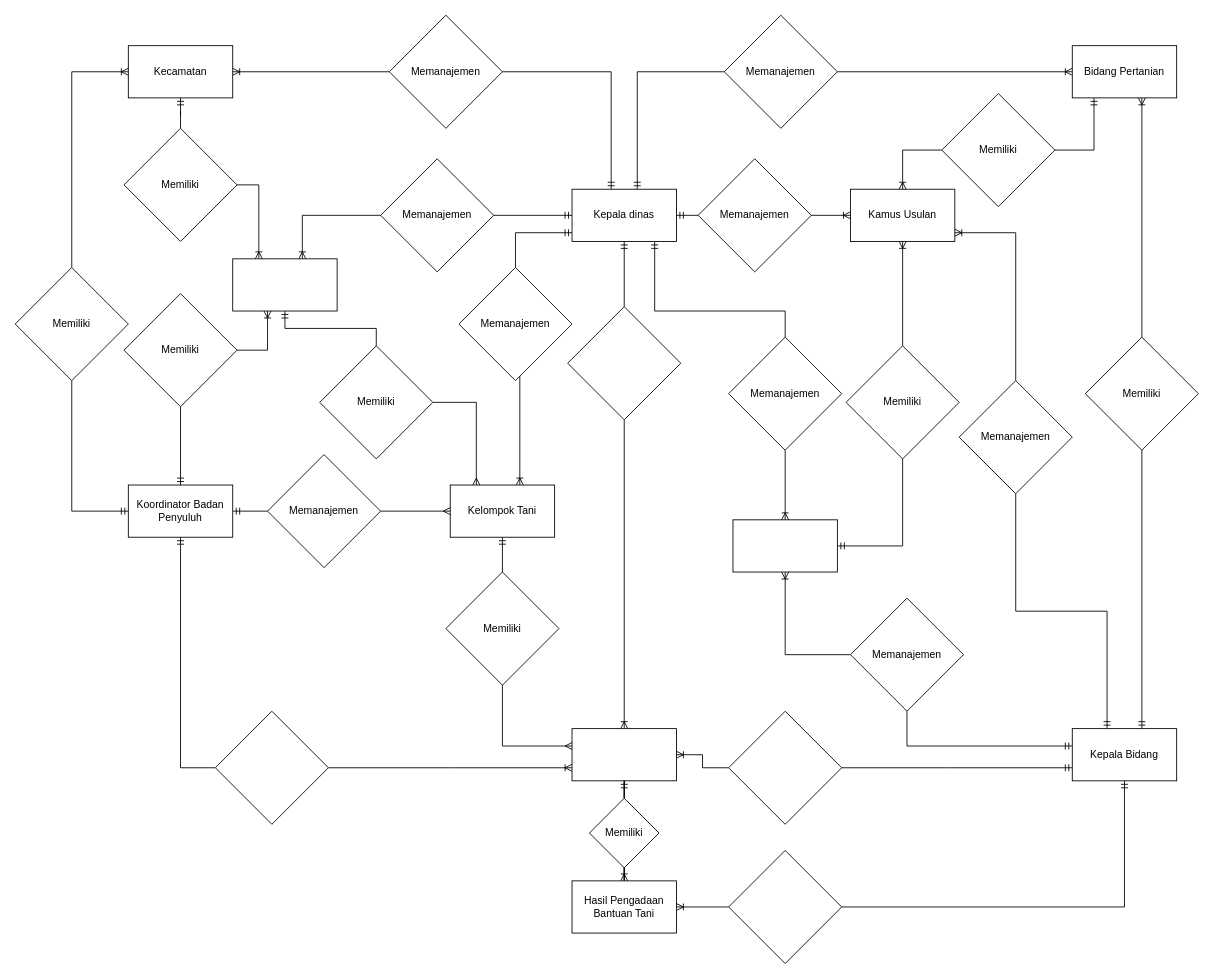
The diagram is 1214 pixels wide and 979 high, and some of its shapes have lost their labels. Here are the shapes that lost their labels. From the top down, the centre of each, then its label:
the point at 284,284: Desa
the point at 624,363: Menyetujui Pelaksanaan
the point at 784,545: Program Pengadaan
the point at 271,767: Membuat
the point at 623,754: Proposal Pengadaan Bantuan Tani
the point at 785,767: Mengajukan Pelaksanaan
the point at 785,907: Mendata
